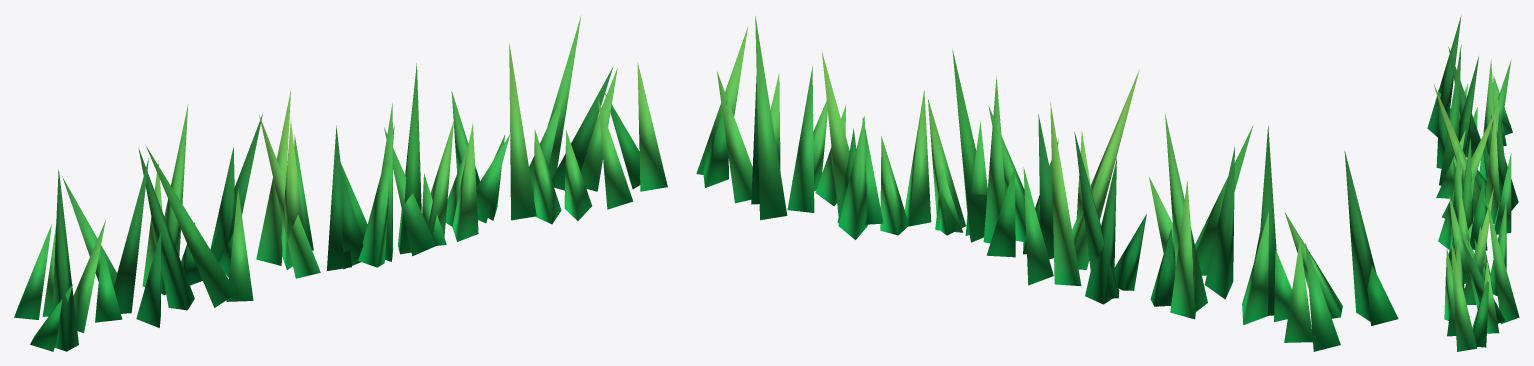
Rendered from grass_edge.glb.
3 renders of one model, left to right at view 1: azimuth 30°, elevation 25°; view 2: azimuth 150°, elevation 25°; view 3: azimuth 270°, elevation 25°, orthographic. The views are drawn at different scales.
Visible parts, largest first — view 1: grass_edge; view 2: grass_edge; view 3: grass_edge.
Part boxes in pixels (x1,y1,x2,y2): grass_edge: (14,15,667,351); grass_edge: (696,16,1398,351); grass_edge: (1427,15,1519,351).
Size of the model in its own units: 1.02 by 0.2757 by 0.1715.
